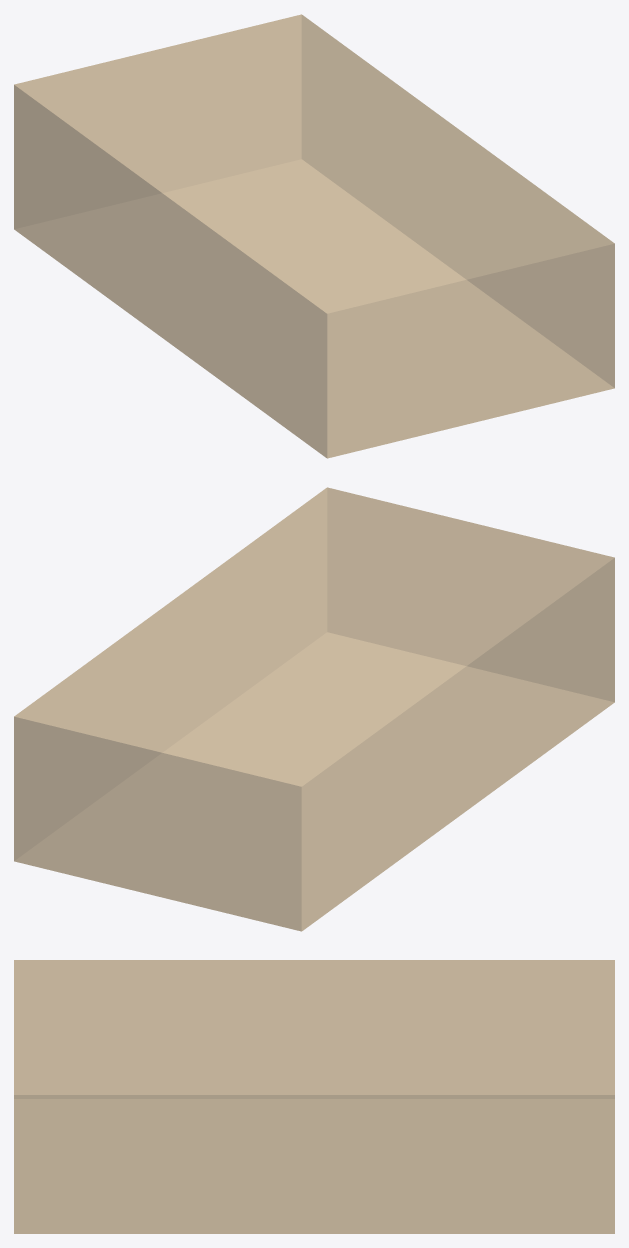
The model's file is blockout.glb.
3 views of the same model, one above another, from view 1: azimuth 30°, elevation 25°; view 2: azimuth 150°, elevation 25°; view 3: azimuth 270°, elevation 25° (orthographic). The views are drawn at different scales.
Parts seen in each view (by area): view 1: C07_ENVELOPE_NOT_FINAL_MESH; view 2: C07_ENVELOPE_NOT_FINAL_MESH; view 3: C07_ENVELOPE_NOT_FINAL_MESH.
Boxes of the visible parts, box(x1,y1,x2,y2) form: C07_ENVELOPE_NOT_FINAL_MESH: box(14, 14, 614, 458); C07_ENVELOPE_NOT_FINAL_MESH: box(14, 487, 614, 931); C07_ENVELOPE_NOT_FINAL_MESH: box(14, 960, 614, 1233).
Size of the model in its own units: 5.2 by 2.5 by 9.8.
